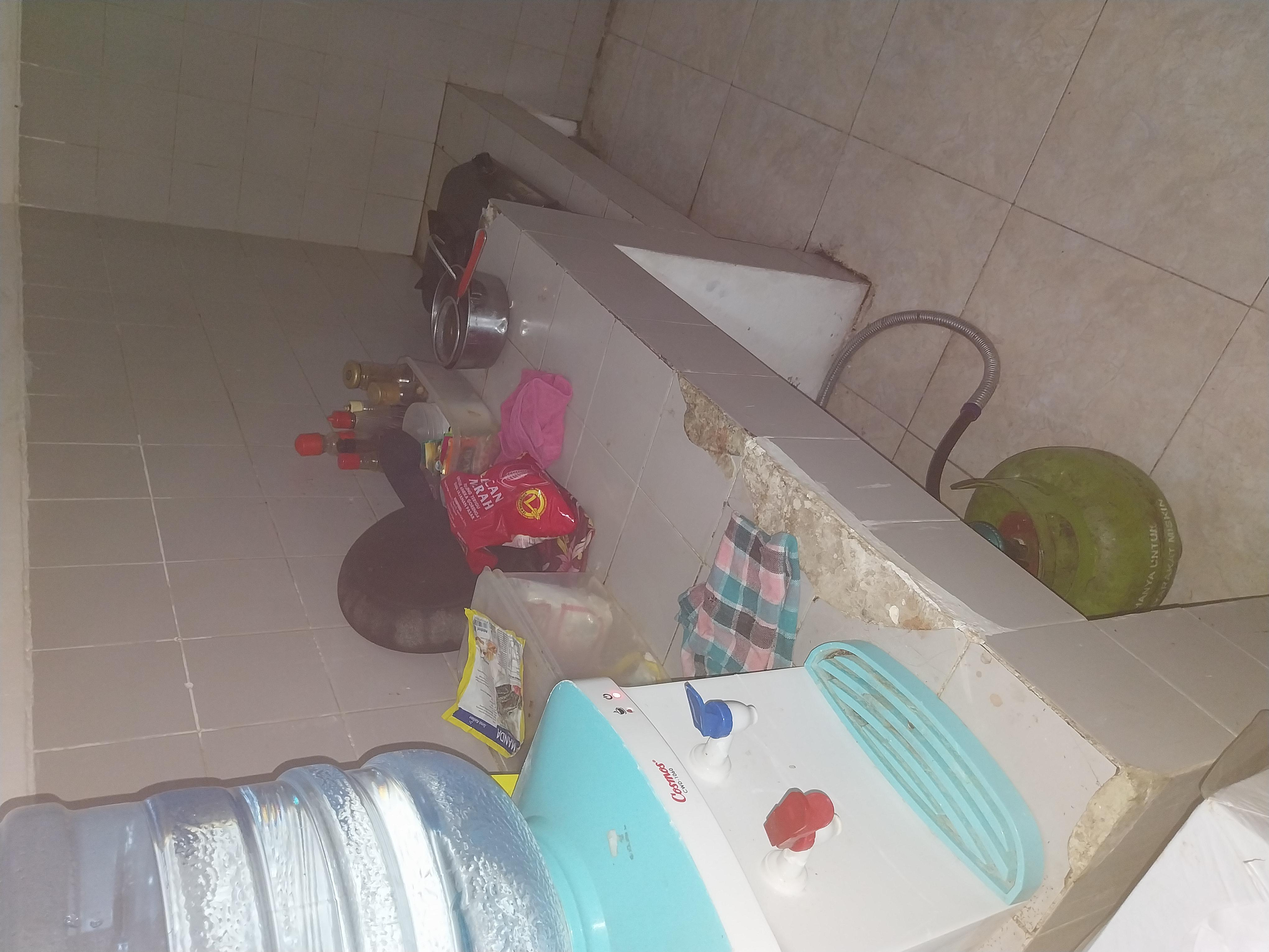stove-merged: (848, 274, 1093, 420)
towel: (360, 506, 586, 602), (640, 369, 782, 431)
